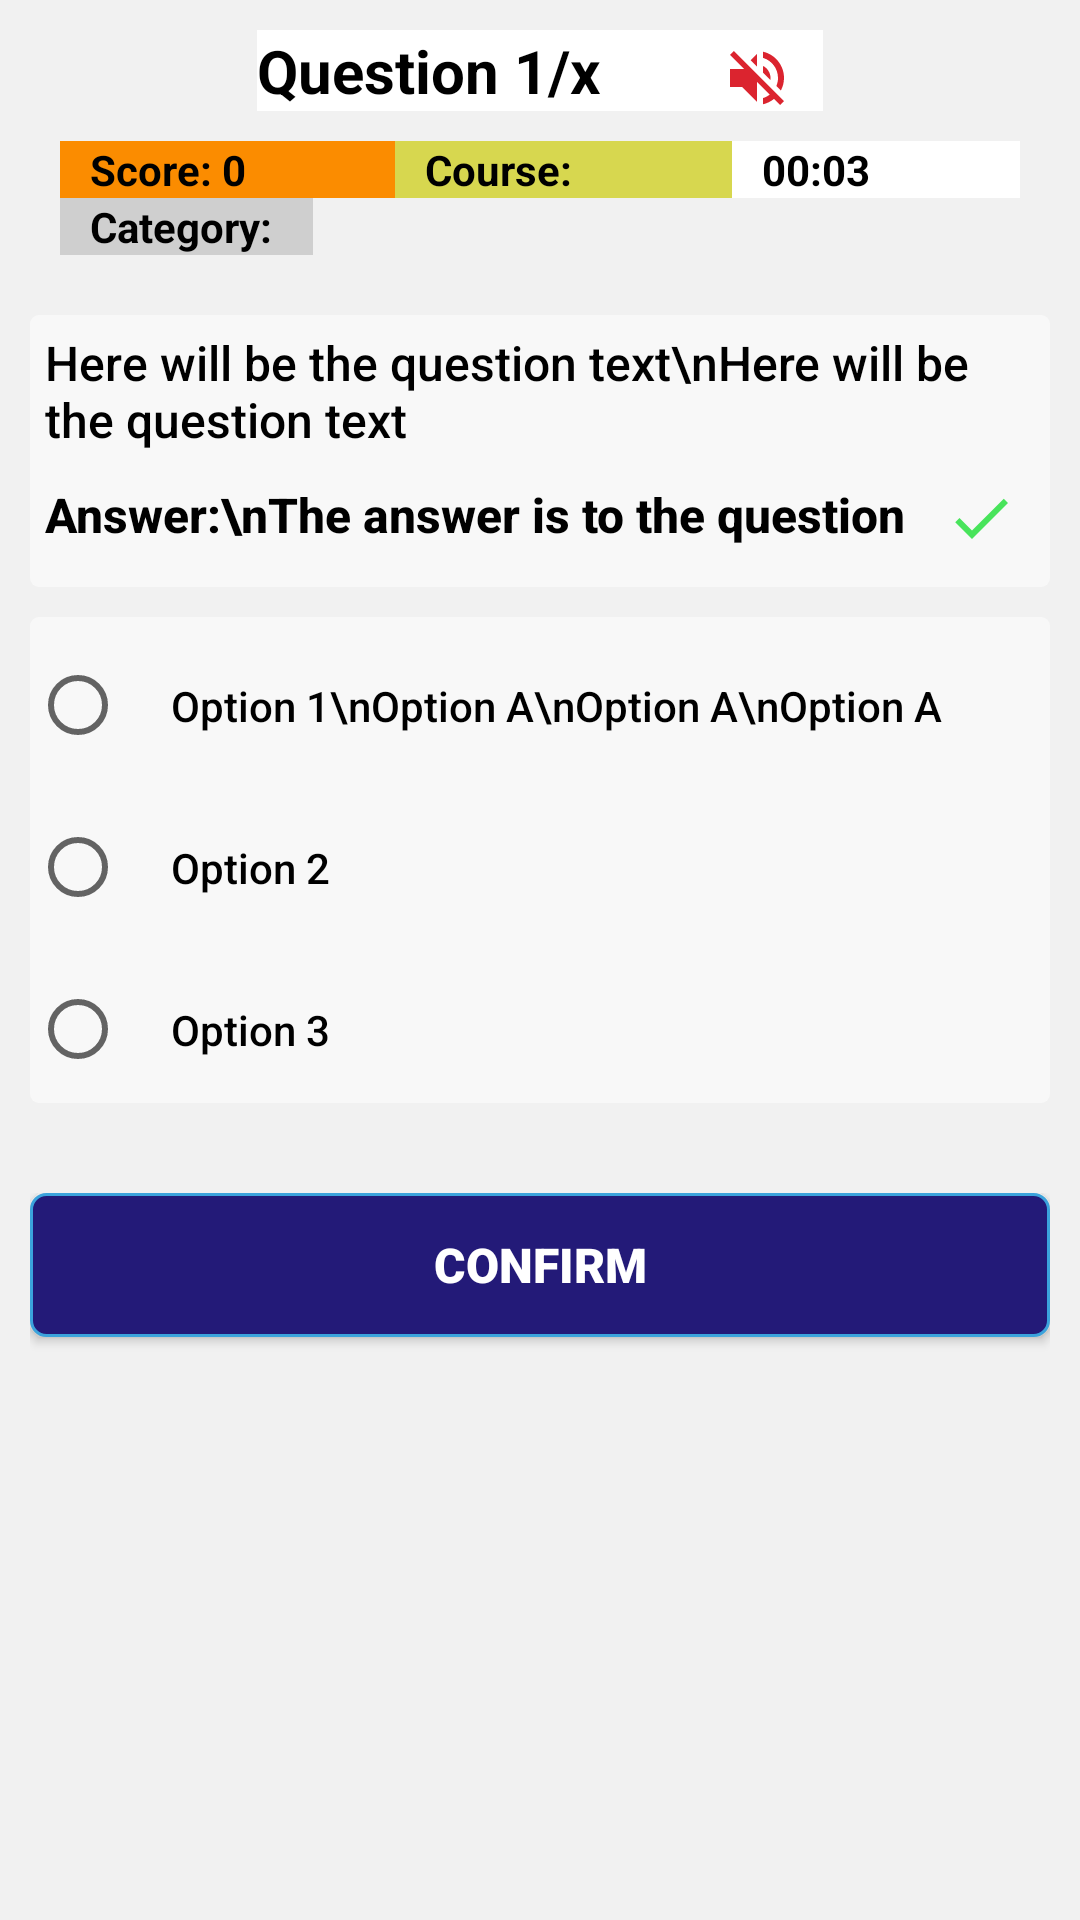

Icons on this 1080w x 1920h Android screen, each with its box as (x1, y1, x2, y2):
correct answer: (955, 499, 1008, 539)
